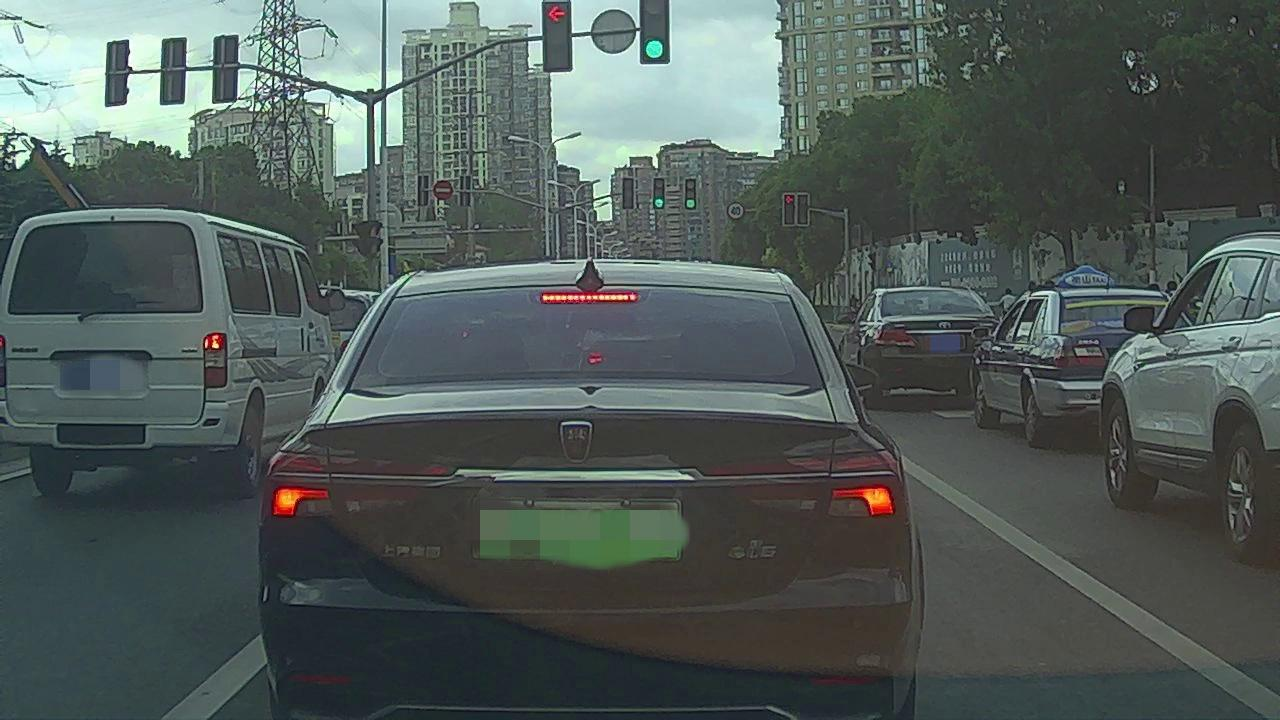traffic_light: (542, 1, 574, 70), (639, 1, 670, 61), (622, 177, 634, 209), (653, 177, 665, 208), (797, 193, 809, 223), (784, 194, 795, 225), (685, 179, 696, 209)
